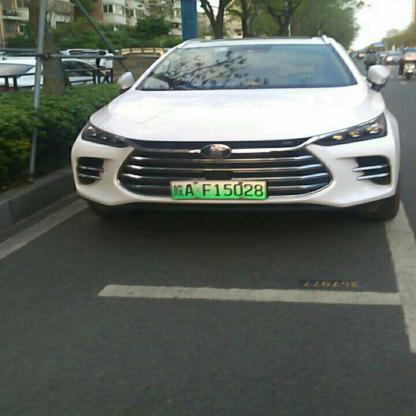lp: (169, 181, 265, 198)
